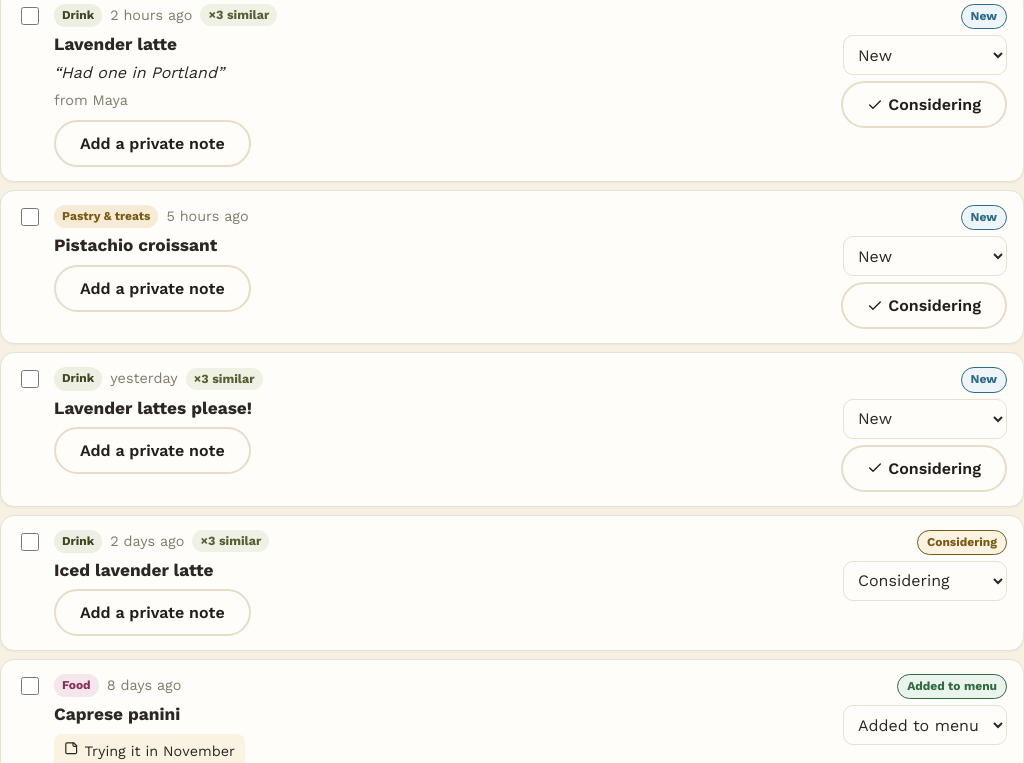
Test: admin Wish list › bulk: select several and hide them as spam
(page scrolled)
Expected: the text "Pistachio croissant" is shown, top-left (54, 235), bottom-right (217, 255)
Step 1. Click the checkbox named "Select “Lavender lattes please!”" → (30, 379), box top-left (21, 370), bottom-right (39, 388)
(page scrolled)
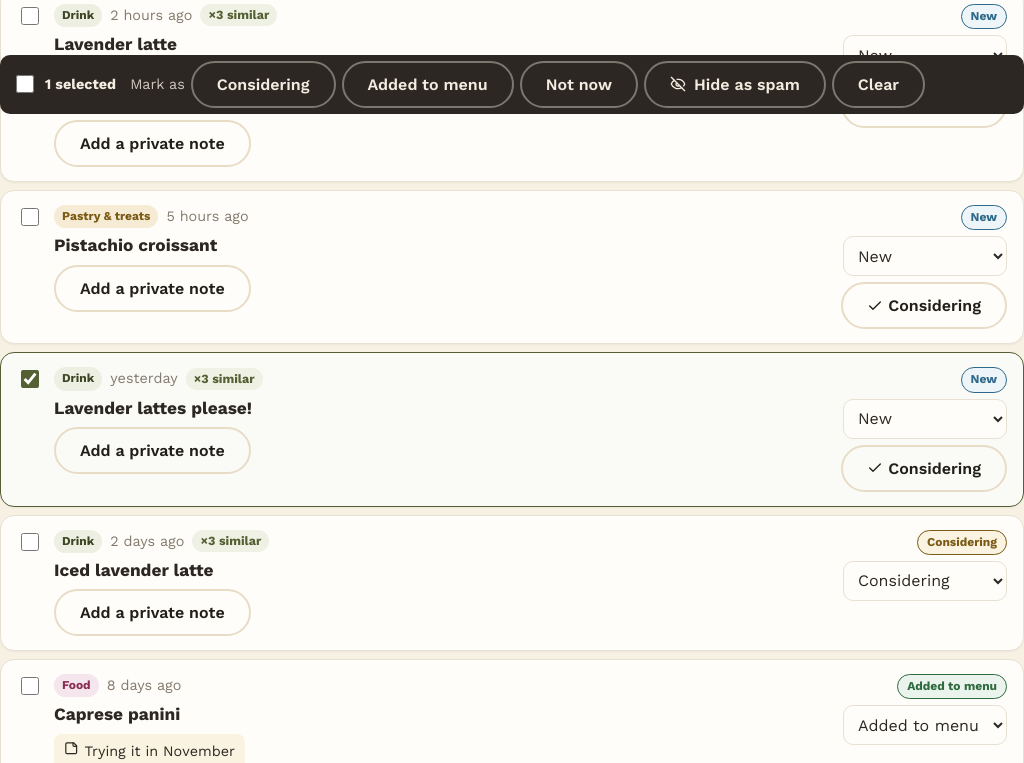
Step 2. Click the checkbox named "Select “Iced lavender latte”" → (30, 542), box top-left (21, 532), bottom-right (39, 550)
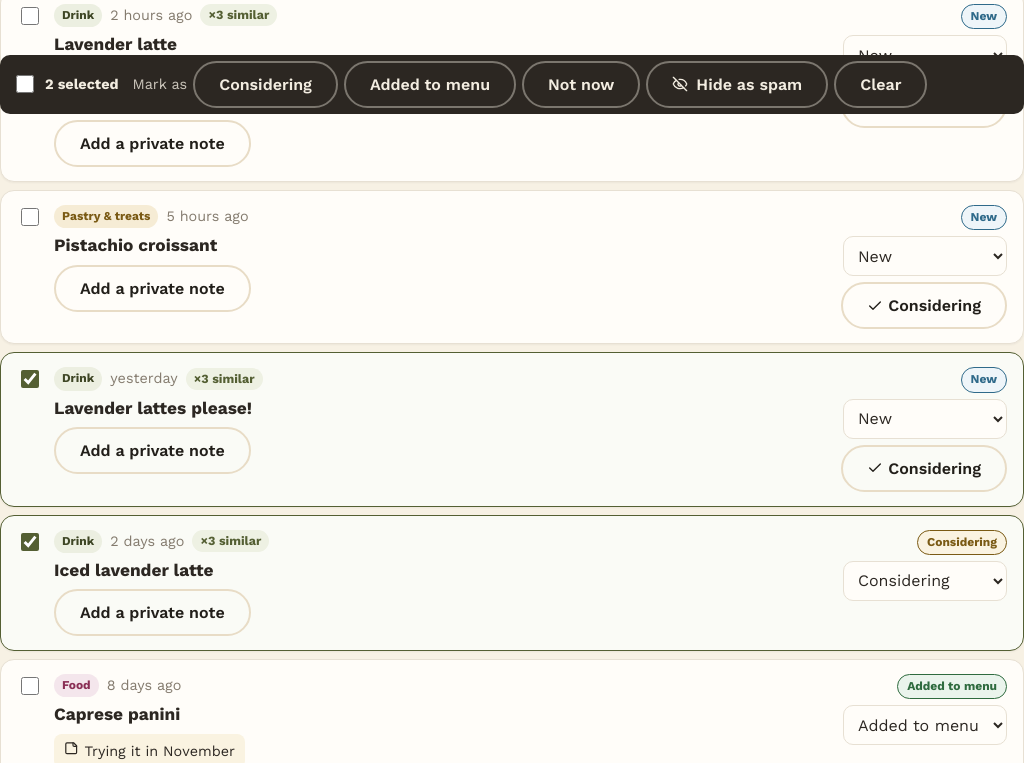
Expected: the text "2 selected" is shown, top-left (45, 73), bottom-right (118, 96)
Step 3. Click the button "Hide as spam" → (737, 84), box top-left (646, 61), bottom-right (828, 108)
(page scrolled)
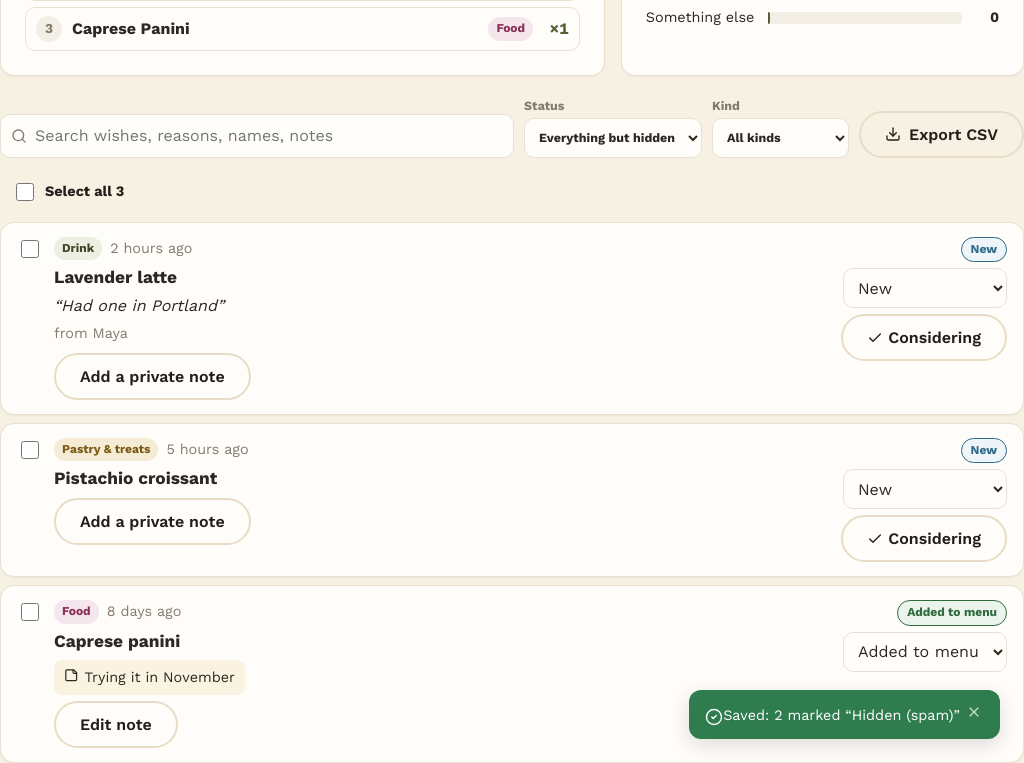
Expected: the text "Saved: 2 marked “Hidden (spam)”" is shown, top-left (723, 707), bottom-right (960, 723)
